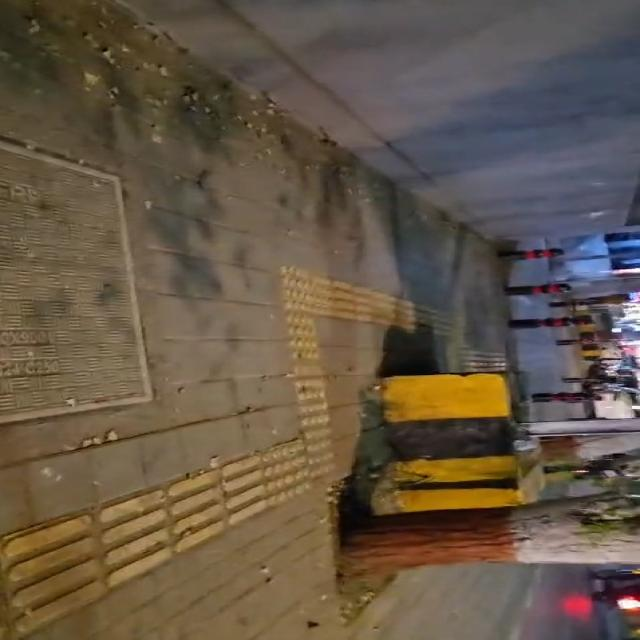obstacle: (362, 376, 514, 518), (509, 317, 591, 328), (505, 284, 571, 295), (499, 248, 563, 259), (532, 393, 601, 402), (563, 377, 598, 383), (556, 339, 581, 345), (549, 301, 573, 307)
